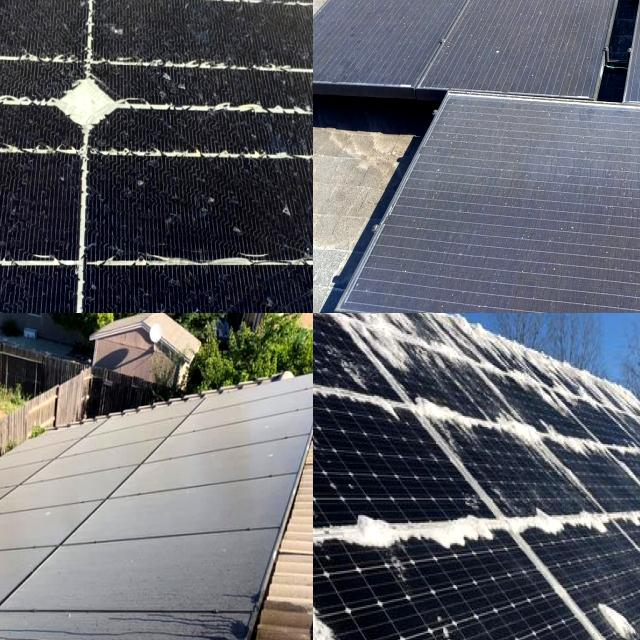dust: (453, 102, 640, 313), (38, 431, 272, 528), (32, 549, 236, 640), (481, 0, 608, 64), (368, 0, 458, 70), (205, 390, 308, 440), (0, 539, 73, 609), (0, 476, 27, 531)
hotspot: (257, 198, 313, 313)
panel: (313, 501, 513, 565), (410, 398, 580, 456), (412, 326, 548, 394), (313, 559, 420, 640), (313, 353, 399, 434), (518, 486, 638, 544), (313, 413, 356, 559), (557, 348, 640, 412), (313, 313, 403, 355), (593, 405, 640, 480), (579, 588, 640, 640), (358, 377, 401, 423), (313, 313, 346, 353)
